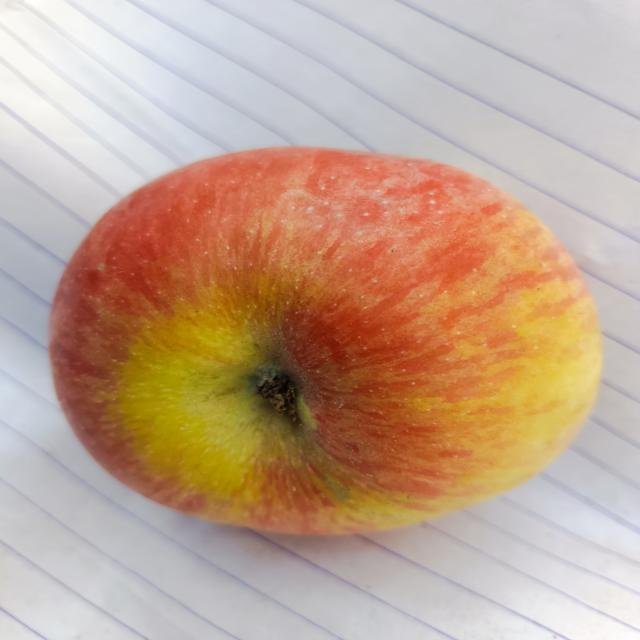Fresh Apple: (70, 148, 573, 542)
